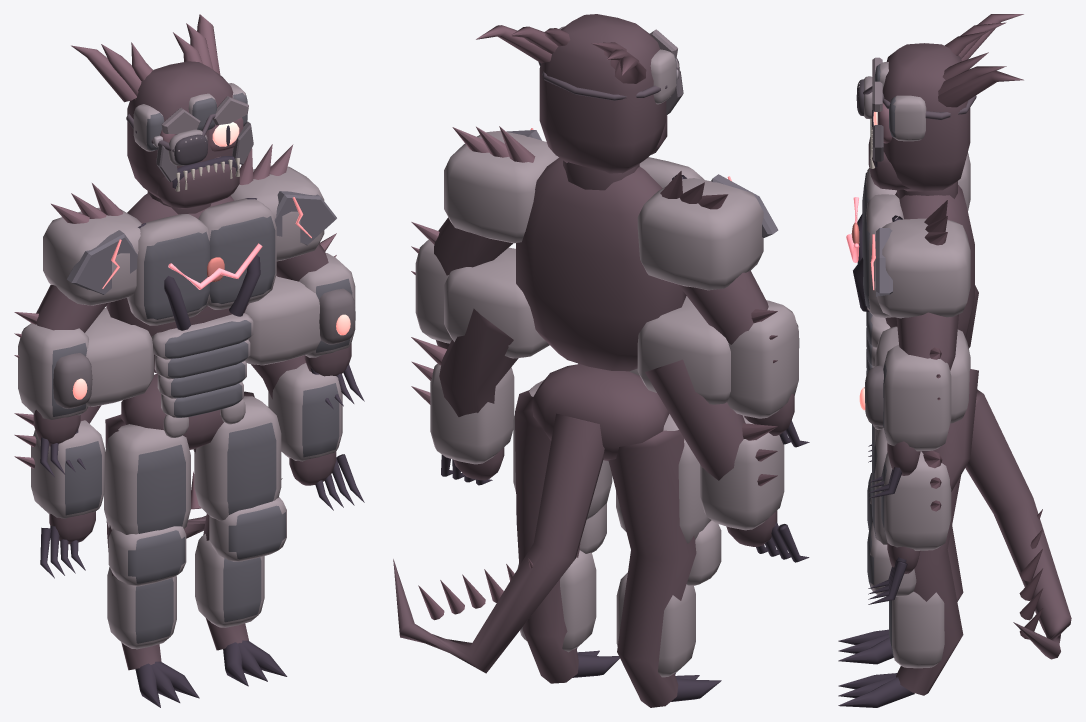
Rendered from orion_mascar_catharsis.glb.
3 renders of one model, left to right at view 1: azimuth 30°, elevation 25°; view 2: azimuth 150°, elevation 25°; view 3: azimuth 270°, elevation 25°, orthographic. The views are drawn at different scales.
Parts seen in each view (by area): view 1: Shoulder upperLeftArm steel rim, Crowned Catharsis skull, Shoulder lowerRightArm steel rim, Shoulder lowerLeftArm steel rim, Thigh leftLeg steel rim, Crossed harness -1 armour, Thigh rightLeg steel rim, Thigh rightLeg armour, Crossed harness 1 armour, Thigh leftLeg armour, Forearm upperLeftArm steel rim, Forearm lowerRightArm steel rim (+53 smaller); view 2: Catharsis thorax, Armoured digitigrade leftLeg, Crowned Catharsis skull, Barbed Catharsis tail, Shoulder upperLeftArm steel rim, Shoulder upperRightArm steel rim, Pelvic carapace, Armoured digitigrade rightLeg, Forearm upperLeftArm steel rim, Shoulder lowerRightArm steel rim, Shoulder lowerLeftArm steel rim, Forearm lowerLeftArm steel rim (+23 smaller); view 3: Barbed Catharsis tail, Crowned Catharsis skull, Shoulder upperRightArm steel rim, Forearm upperRightArm steel rim, Forearm lowerRightArm steel rim, Armoured digitigrade rightLeg, Shin rightLeg steel rim, Catharsis thorax, Sinewed limb upperRightArm, Sinewed limb lowerRightArm, Shoulder lowerRightArm steel rim, Crossed harness 1 steel rim (+26 smaller).
Part boxes in pixels (left/top/right/bottom): Shoulder upperLeftArm steel rim: left=43, top=207, right=141, bottom=305; Crowned Catharsis skull: left=127, top=61, right=233, bottom=198; Shoulder lowerRightArm steel rim: left=245, top=275, right=320, bottom=365; Shoulder lowerLeftArm steel rim: left=85, top=308, right=153, bottom=406; Thigh leftLeg steel rim: left=104, top=424, right=190, bottom=534; Crossed harness -1 armour: left=144, top=231, right=209, bottom=319; Thigh rightLeg steel rim: left=194, top=396, right=281, bottom=520; Thigh rightLeg armour: left=227, top=422, right=276, bottom=514; Crossed harness 1 armour: left=209, top=216, right=275, bottom=303; Thigh leftLeg armour: left=137, top=444, right=185, bottom=533; Forearm upperLeftArm steel rim: left=18, top=323, right=88, bottom=419; Forearm lowerRightArm steel rim: left=268, top=363, right=342, bottom=461; Catharsis thorax: left=516, top=157, right=686, bottom=371; Armoured digitigrade leftLeg: left=608, top=430, right=696, bottom=707; Crowned Catharsis skull: left=539, top=14, right=666, bottom=173; Barbed Catharsis tail: left=393, top=413, right=604, bottom=673; Shoulder upperLeftArm steel rim: left=637, top=178, right=763, bottom=290; Shoulder upperRightArm steel rim: left=444, top=130, right=558, bottom=243; Pelvic carapace: left=533, top=364, right=669, bottom=460; Armoured digitigrade rightLeg: left=515, top=390, right=580, bottom=683; Forearm upperLeftArm steel rim: left=727, top=300, right=798, bottom=418; Shoulder lowerRightArm steel rim: left=444, top=247, right=549, bottom=358; Shoulder lowerLeftArm steel rim: left=637, top=296, right=730, bottom=404; Forearm lowerLeftArm steel rim: left=700, top=415, right=784, bottom=530; Barbed Catharsis tail: left=965, top=389, right=1071, bottom=659; Crowned Catharsis skull: left=882, top=43, right=970, bottom=191; Shoulder upperRightArm steel rim: left=875, top=218, right=970, bottom=318; Forearm upperRightArm steel rim: left=884, top=345, right=951, bottom=451; Forearm lowerRightArm steel rim: left=884, top=451, right=951, bottom=550; Armoured digitigrade rightLeg: left=896, top=475, right=963, bottom=695; Shin rightLeg steel rim: left=892, top=591, right=944, bottom=668; Catharsis thorax: left=885, top=185, right=974, bottom=338; Sinewed limb upperRightArm: left=896, top=312, right=958, bottom=370; Sinewed limb lowerRightArm: left=921, top=369, right=978, bottom=491; Shoulder lowerRightArm steel rim: left=875, top=326, right=970, bottom=423; Crossed harness 1 steel rim: left=866, top=194, right=903, bottom=317.
Size of the model in its own units: 2.5 by 4.5 by 1.49.
